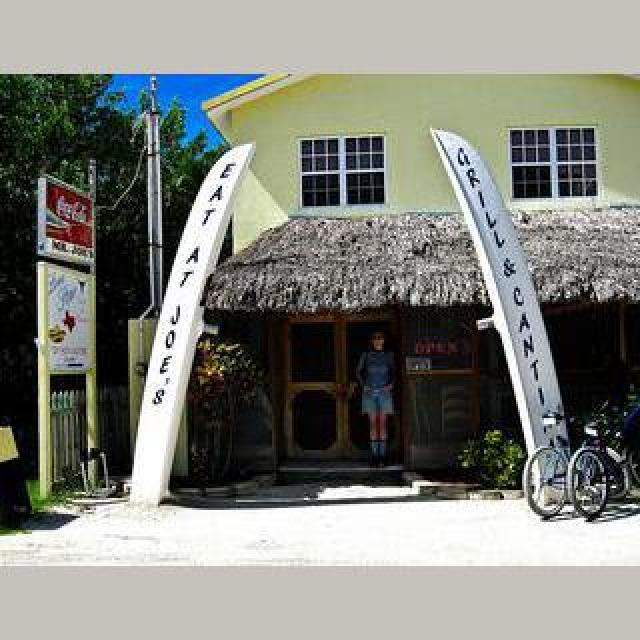MC-Bike: (354, 330, 400, 466)
Person: (524, 400, 616, 518), (568, 404, 640, 518)
